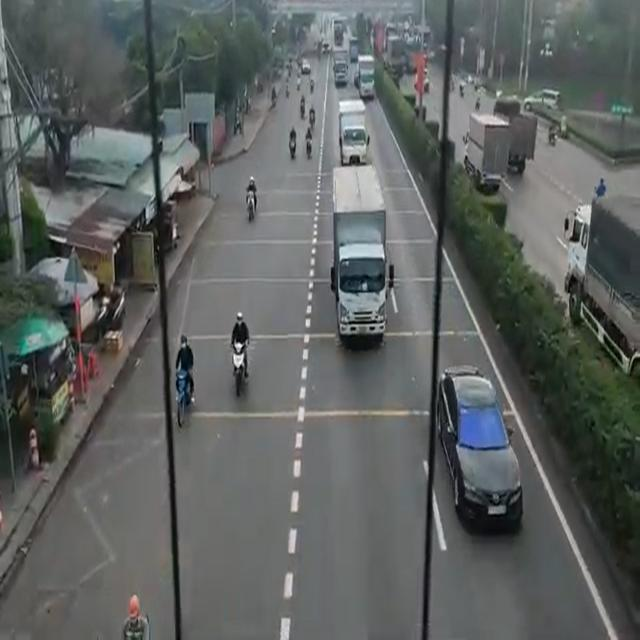car: (438, 366, 521, 523)
motor: (233, 338, 252, 396), (176, 366, 194, 426), (247, 196, 260, 228)
truck: (580, 200, 640, 384), (336, 165, 387, 349), (468, 115, 504, 187), (340, 103, 373, 161)
